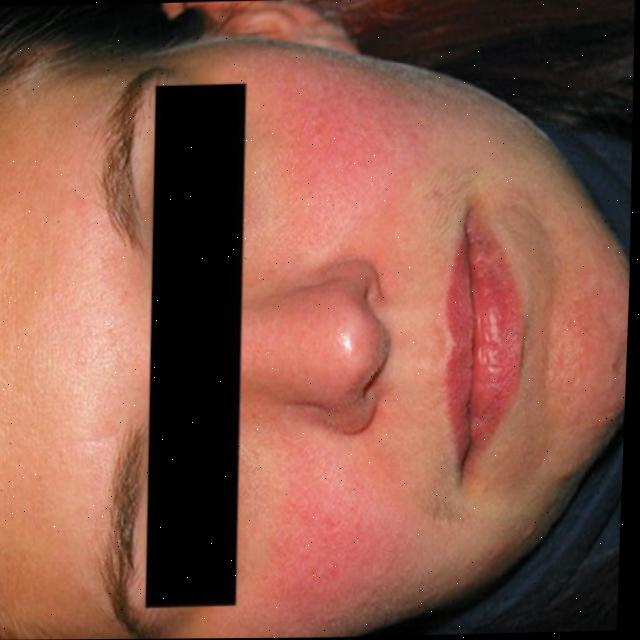Rosacea: (267, 69, 431, 241), (259, 455, 408, 618)
